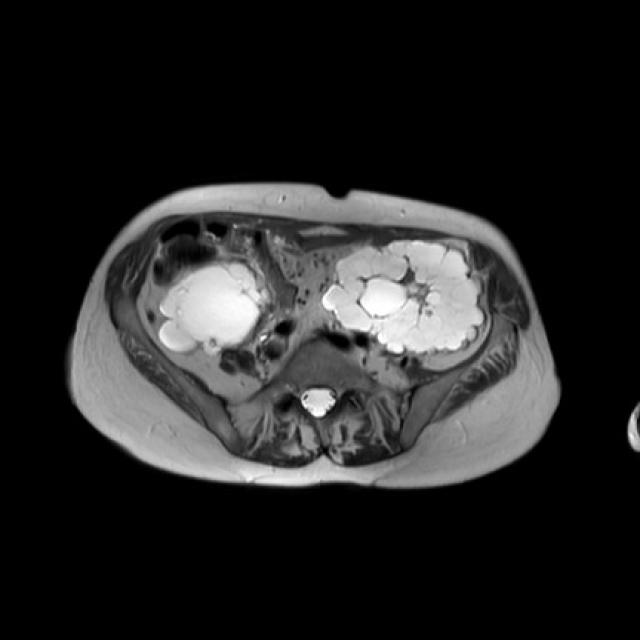sag: (160, 258, 271, 356)
sol: (321, 238, 487, 355)
